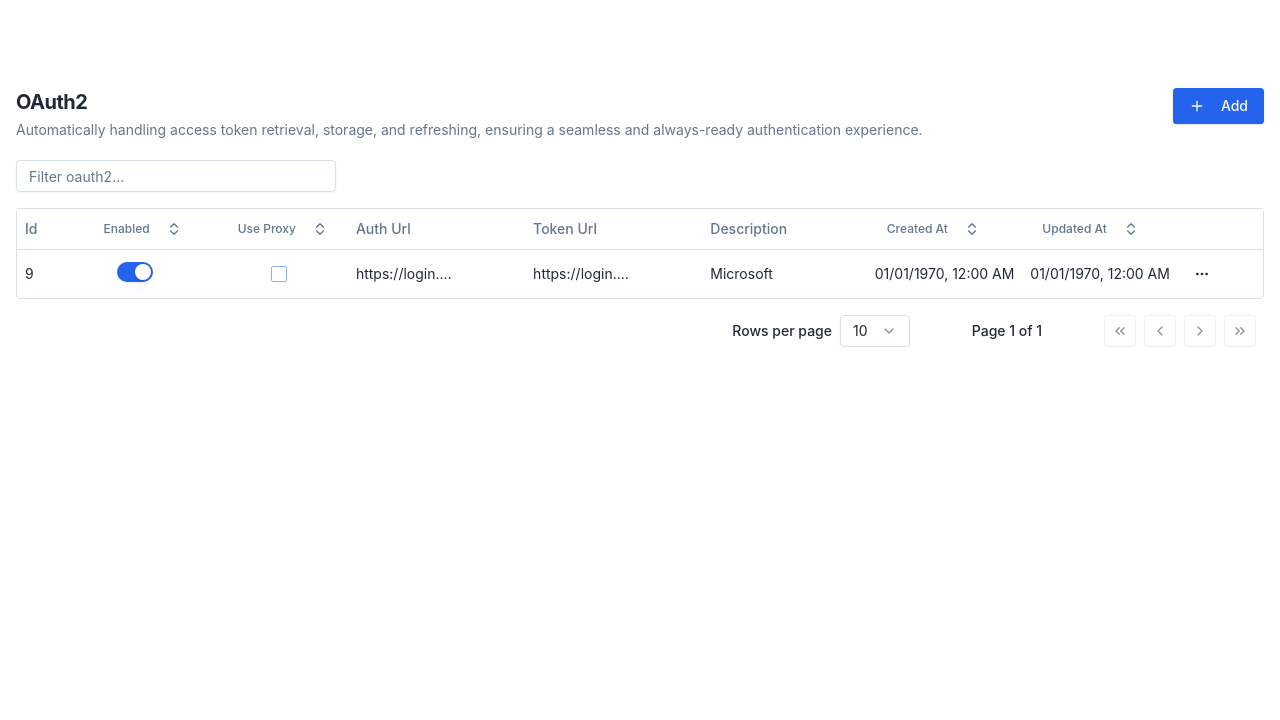
Test: OAuth2 page › opens the token import from the row menu and closes it again
This screenshot has width=1280, height=720.
Click the button named "open menu" in the row of "https://login.example.com/authorize": (1202, 274) [1186, 258, 1218, 290]
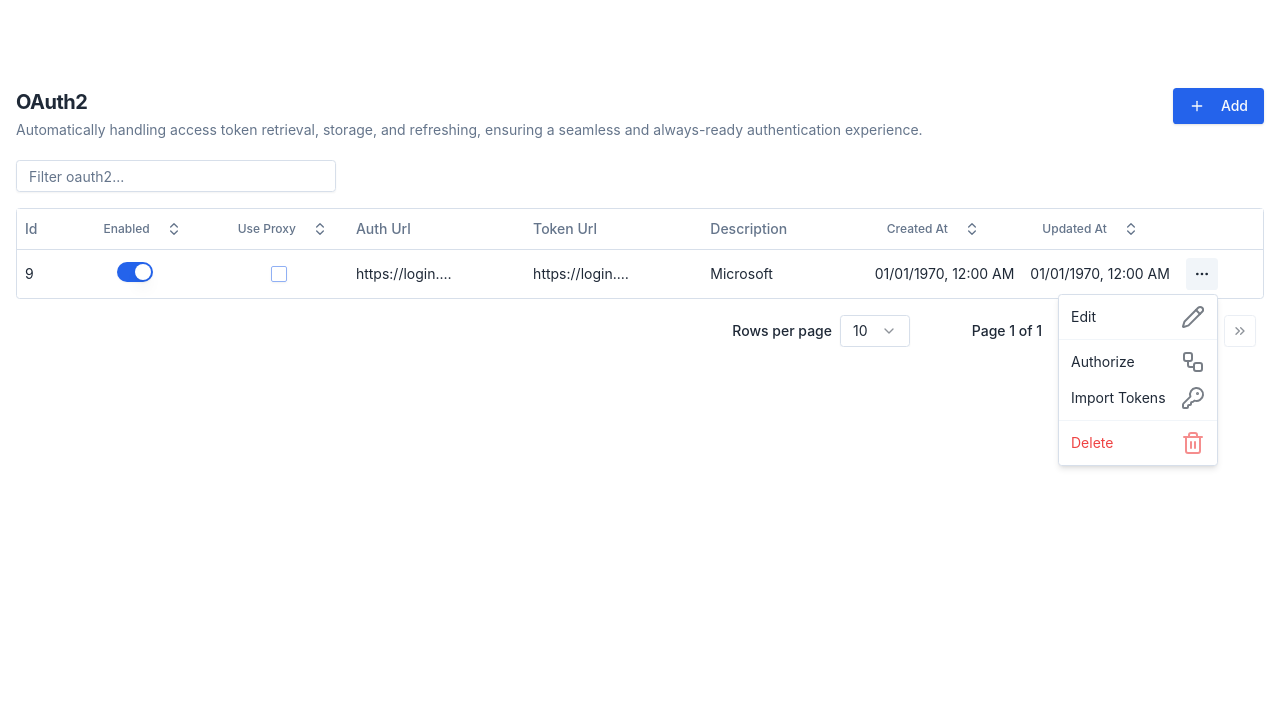
Click the menu item "Import Tokens": (1138, 398) [1063, 380, 1213, 416]
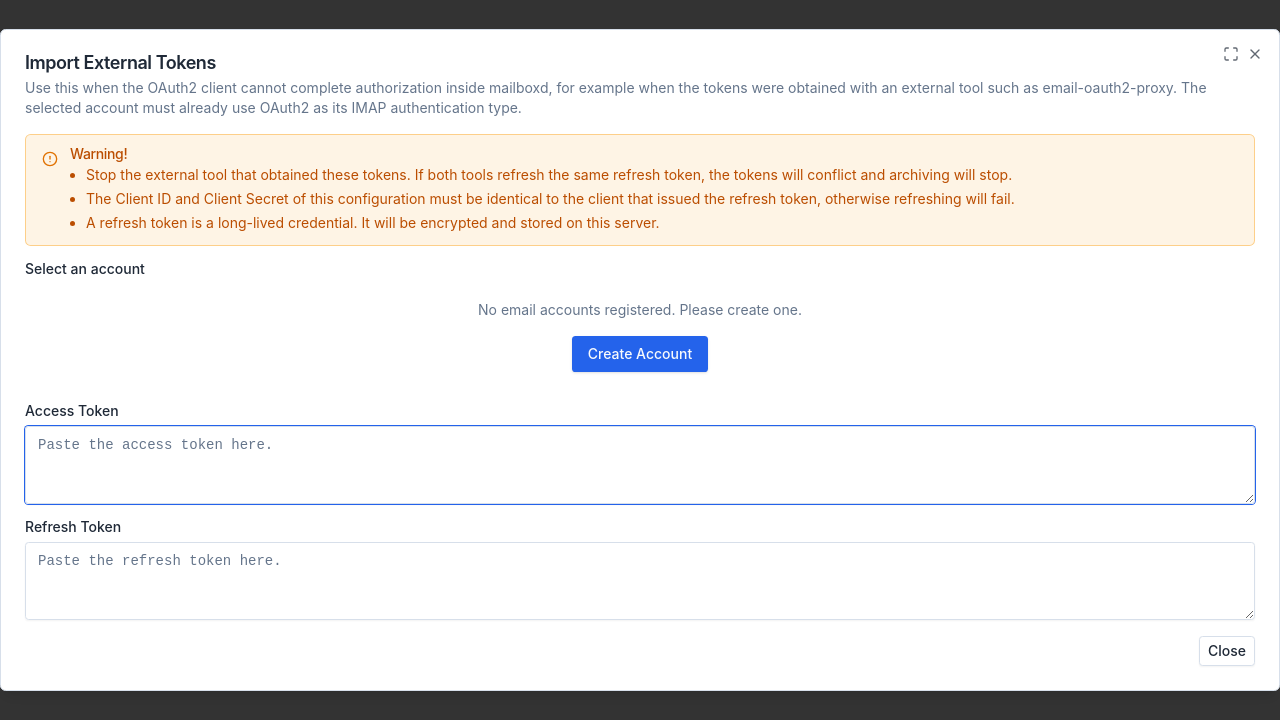
Result: the dialog "Import External Tokens" is shown
Press Escape
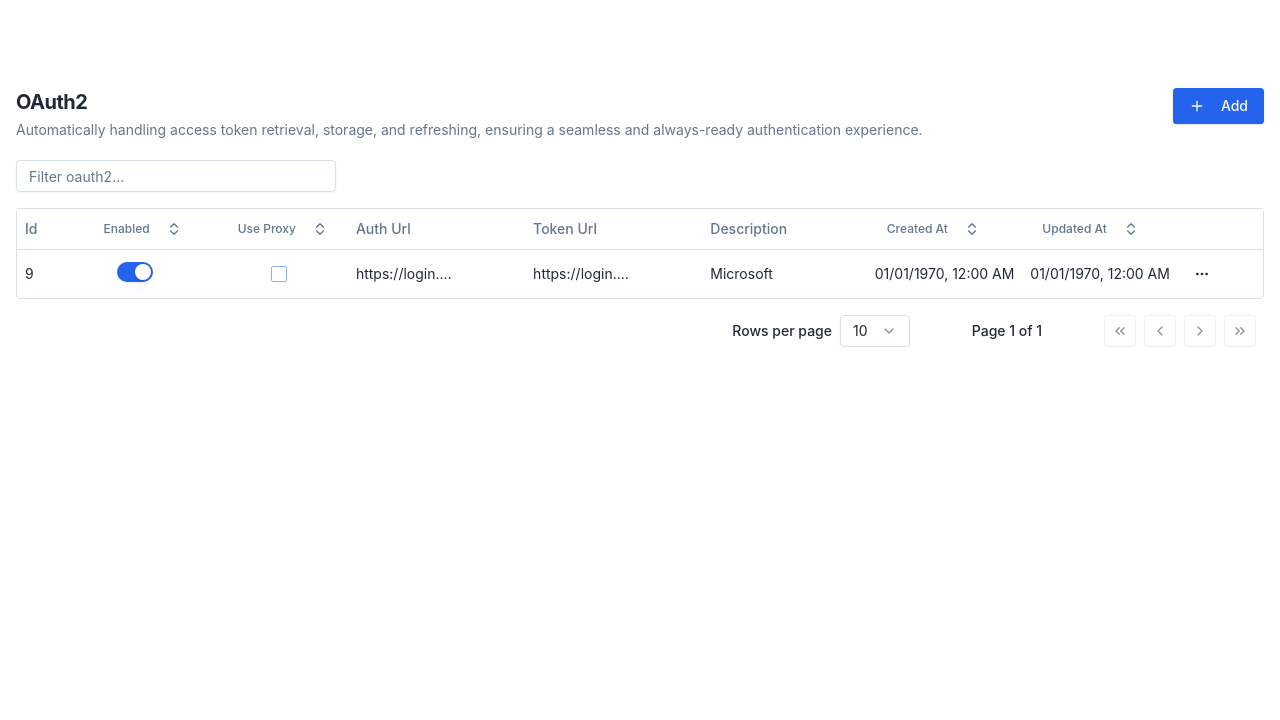
Result: the dialog is gone
Click the button named "open menu" in the row of "https://login.example.com/authorize": (1202, 274) [1186, 258, 1218, 290]
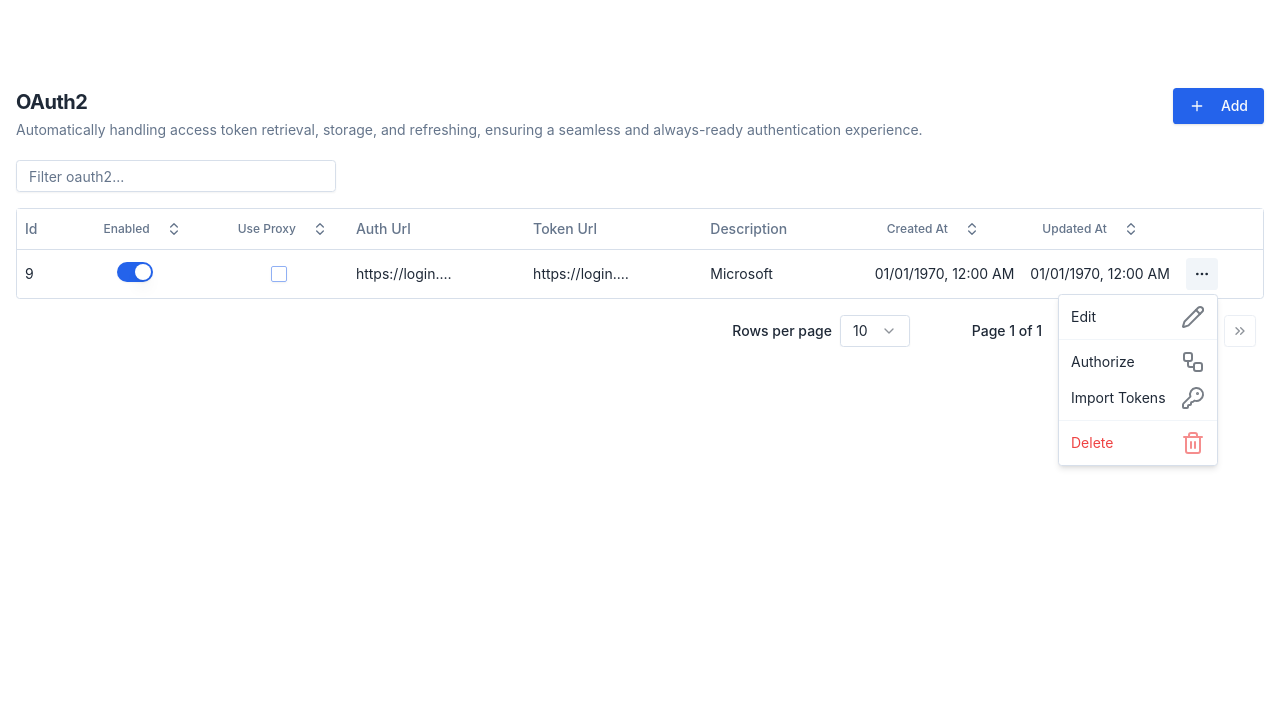
Click the menu item "Import Tokens": (1138, 398) [1063, 380, 1213, 416]
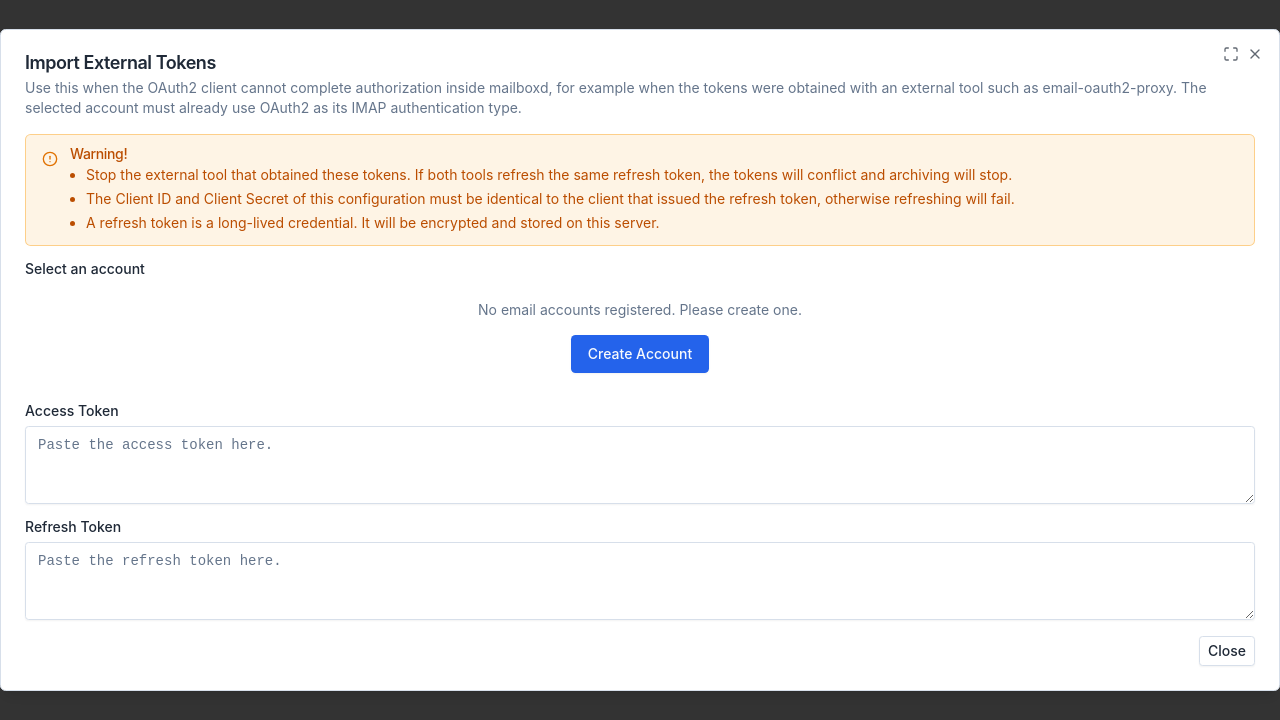
Result: the dialog "Import External Tokens" is shown
